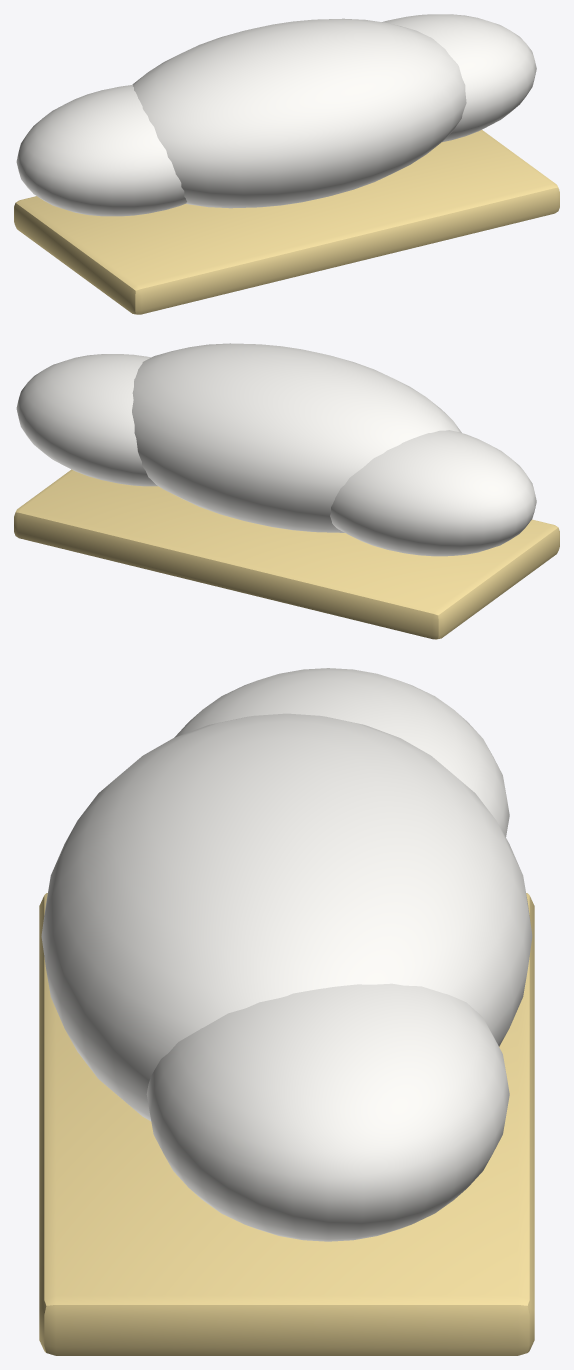
File: cloud-ergonomic-hand-rest.glb
3 renders of one model, top to bottom at view 1: azimuth 30°, elevation 25°; view 2: azimuth 150°, elevation 25°; view 3: azimuth 270°, elevation 25°, orthographic. The views are drawn at different scales.
Visible parts, largest first — view 1: cloud_CenterLobe, cloud_GoldBasePlinth, cloud_LobeLeft, cloud_LobeRight; view 2: cloud_CenterLobe, cloud_GoldBasePlinth, cloud_LobeLeft, cloud_LobeRight; view 3: cloud_CenterLobe, cloud_GoldBasePlinth, cloud_LobeRight, cloud_LobeLeft.
Boxes of the visible parts, x1,y1,x2,y2 form: cloud_CenterLobe: (132,18,466,208); cloud_GoldBasePlinth: (14,130,559,314); cloud_LobeLeft: (16,84,186,216); cloud_LobeRight: (382,14,536,142); cloud_CenterLobe: (132,343,461,532); cloud_GoldBasePlinth: (14,469,559,639); cloud_LobeLeft: (330,430,536,556); cloud_LobeRight: (16,354,157,486); cloud_CenterLobe: (41,713,532,1121); cloud_GoldBasePlinth: (39,893,534,1355); cloud_LobeRight: (146,983,509,1241); cloud_LobeLeft: (174,668,509,836).
Bounding box in the file's own units: 0.281 × 0.0965 × 0.12.
